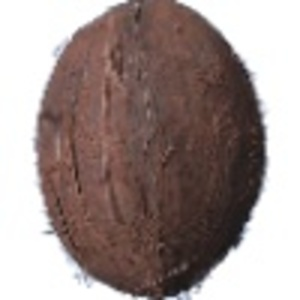coco: (36, 1, 267, 300)
